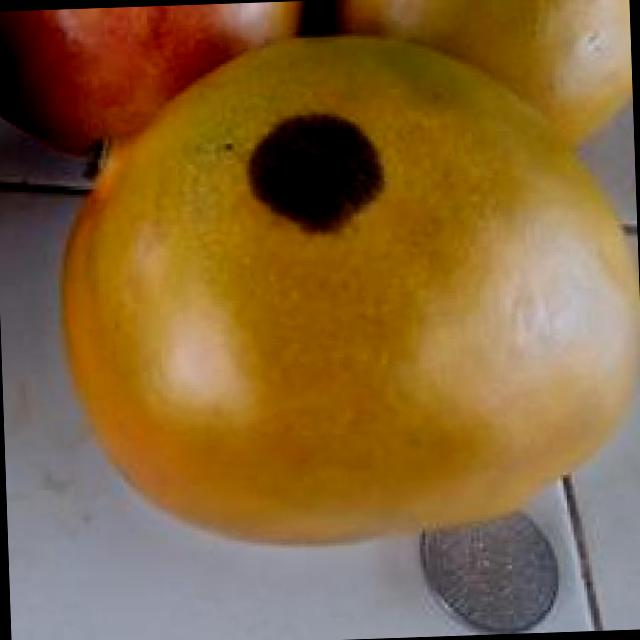Mango: (54, 24, 640, 544), (0, 0, 315, 161), (308, 0, 634, 150)
